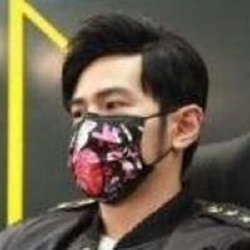mask: (60, 104, 175, 205)
